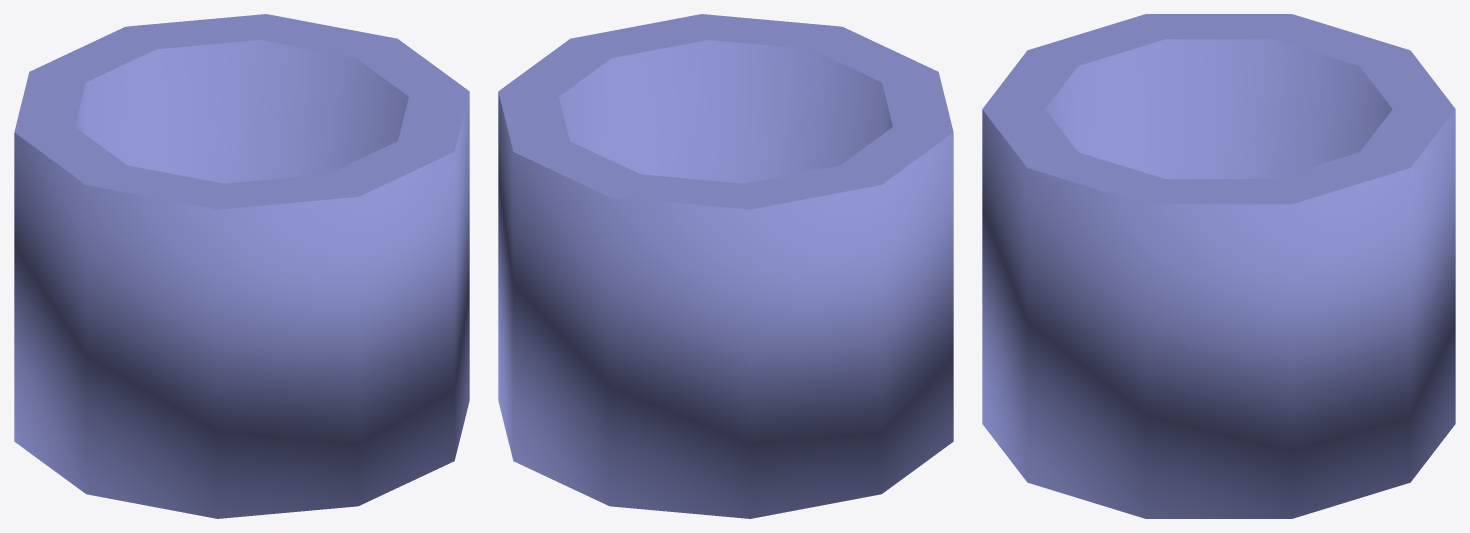
Rendered from StonePlanter_low.fbx.
3 views of the same model, side by side, from view 1: azimuth 30°, elevation 25°; view 2: azimuth 150°, elevation 25°; view 3: azimuth 270°, elevation 25° (orthographic).
Visible parts, largest first — view 1: StonePot; view 2: StonePot; view 3: StonePot.
Boxes of the visible parts, x1,y1,x2,y2 form: StonePot: [14, 14, 469, 518]; StonePot: [498, 14, 953, 518]; StonePot: [982, 14, 1455, 518].
Size of the model in its own units: 10.66 by 8.22 by 11.21.
